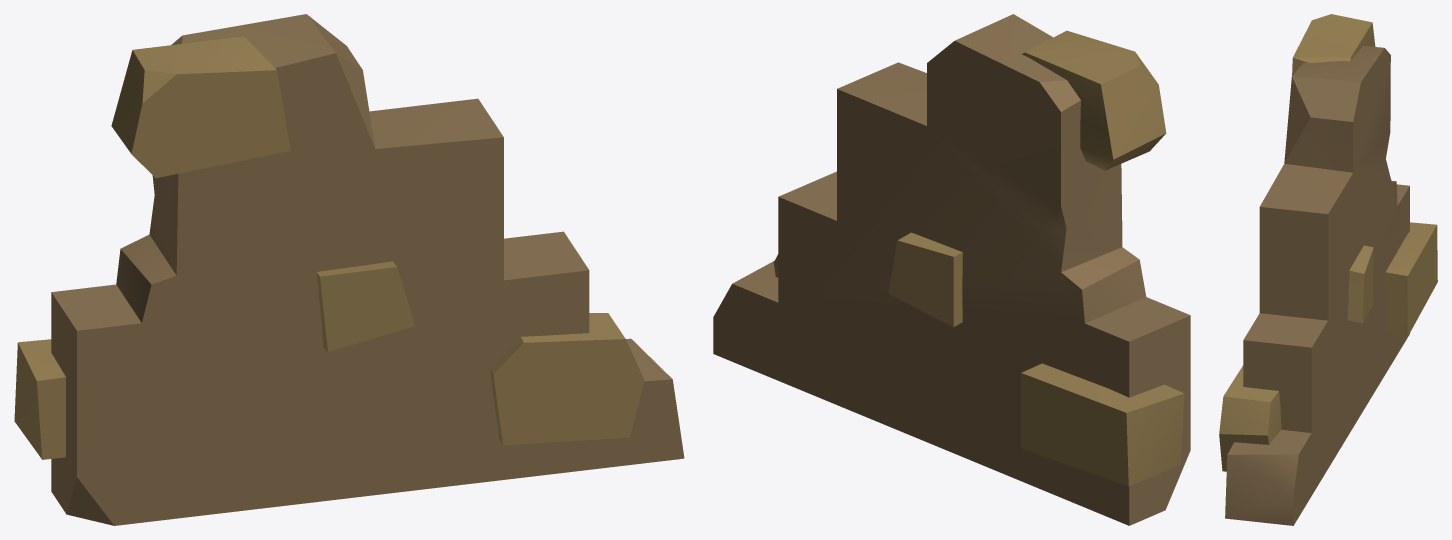
Rendered from sf_dr_wall.glb.
3 views of the same model, side by side, from view 1: azimuth 30°, elevation 25°; view 2: azimuth 150°, elevation 25°; view 3: azimuth 270°, elevation 25° (orthographic). The views are drawn at different scales.
Parts seen in each view (by area): view 1: sf_dr_wall; view 2: sf_dr_wall; view 3: sf_dr_wall.
Boxes of the visible parts, x1,y1,x2,y2 form: sf_dr_wall: (14, 14, 684, 525); sf_dr_wall: (713, 14, 1190, 525); sf_dr_wall: (1219, 14, 1437, 525).
Size of the model in its own units: 7.96 by 6.06 by 3.58.
Materials: 1 (1 with a texture image).
